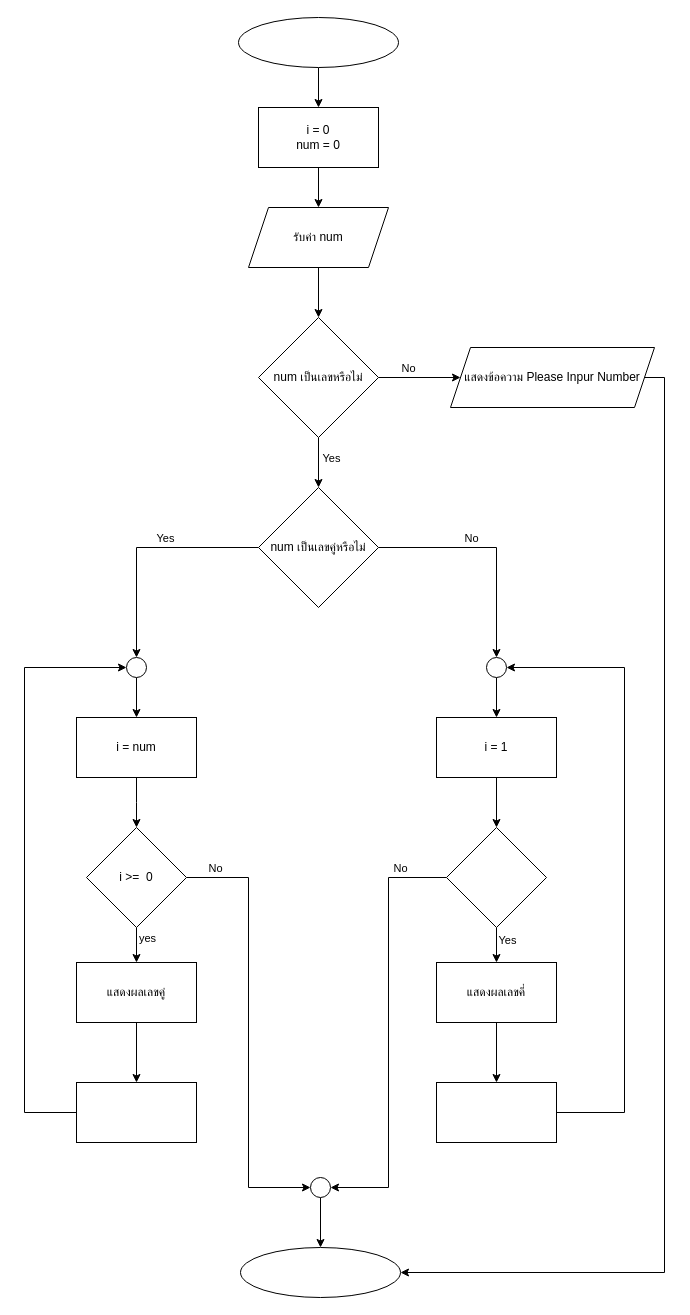
The diagram is 690 pixels wide and 1315 high, and some of its shapes have lost their labels. The box of each missing label's shape, as (x1, y1, x2, y2) in pixels:
i <= num: (446, 826, 546, 928)
i = i-1: (436, 1082, 556, 1142)
i=i+1: (76, 1082, 196, 1142)
start: (238, 16, 398, 68)
stop: (240, 1246, 400, 1298)
